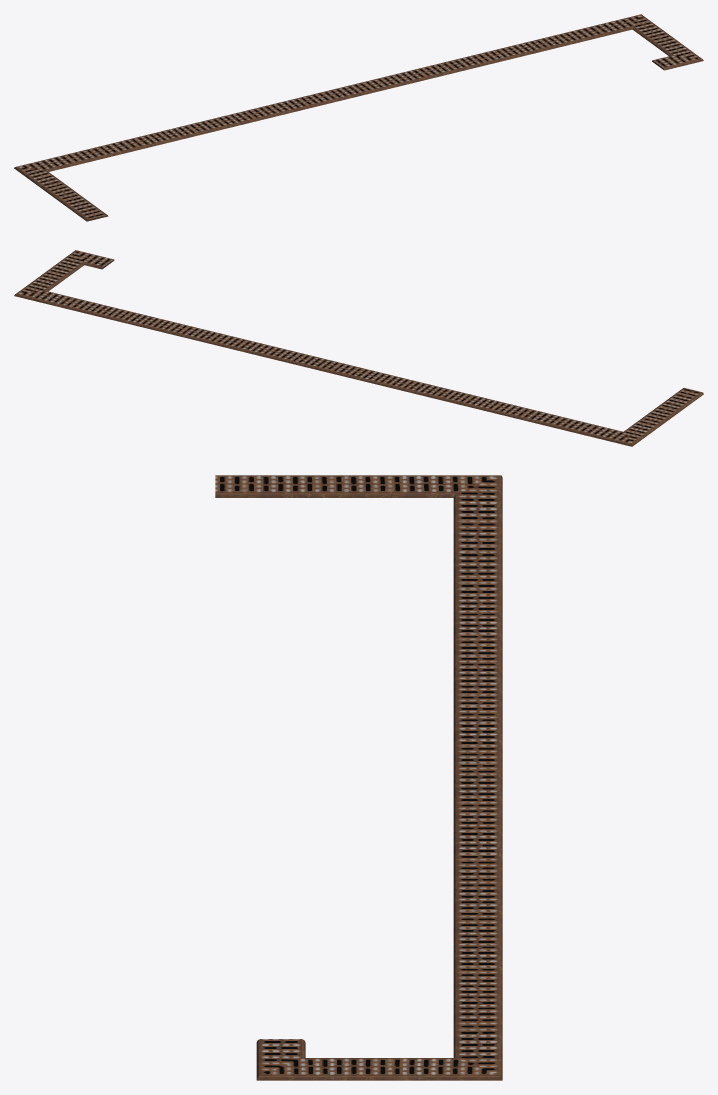
Rendered from Drainage.glb.
The picture shows the model from 3 angles, top to bottom: view 1: azimuth 30°, elevation 25°; view 2: azimuth 150°, elevation 25°; view 3: azimuth 270°, elevation 25°; orthographic projection. The views are drawn at different scales.
Parts seen in each view (by area): view 1: Drainage_4m, Drainage_Corner_2m, Drainage_2m, Drainage_Corner_1m, Drainage_Corner_0_5m, Drainage_1m, Drainage_0_5m; view 2: Drainage_4m, Drainage_Corner_2m, Drainage_2m, Drainage_Corner_1m, Drainage_1m, Drainage_Corner_0_5m, Drainage_0_5m; view 3: Drainage_Corner_2m, Drainage_4m, Drainage_Corner_1m, Drainage_2m, Drainage_Corner_0_5m, Drainage_1m, Drainage_0_5m.
Boxes of the visible parts, left/top/right/bottom form: Drainage_4m: left=257, top=52, right=498, bottom=118; Drainage_Corner_2m: left=14, top=136, right=152, bottom=221; Drainage_2m: left=141, top=108, right=267, bottom=146; Drainage_Corner_1m: left=574, top=14, right=679, bottom=48; Drainage_Corner_0_5m: left=652, top=42, right=703, bottom=70; Drainage_1m: left=487, top=38, right=556, bottom=61; Drainage_0_5m: left=545, top=31, right=585, bottom=47; Drainage_4m: left=167, top=323, right=404, bottom=388; Drainage_Corner_2m: left=508, top=388, right=703, bottom=446; Drainage_2m: left=394, top=378, right=519, bottom=416; Drainage_Corner_1m: left=14, top=266, right=92, bottom=312; Drainage_1m: left=110, top=309, right=177, bottom=333; Drainage_Corner_0_5m: left=54, top=250, right=114, bottom=272; Drainage_0_5m: left=81, top=302, right=120, bottom=319; Drainage_Corner_2m: left=215, top=475, right=502, bottom=598; Drainage_4m: left=453, top=706, right=502, bottom=931; Drainage_Corner_1m: left=346, top=1011, right=502, bottom=1080; Drainage_2m: left=453, top=595, right=502, bottom=709; Drainage_Corner_0_5m: left=256, top=1039, right=346, bottom=1080; Drainage_1m: left=453, top=928, right=502, bottom=986; Drainage_0_5m: left=453, top=983, right=502, bottom=1014.
Size of the model in its own units: 10.87 by 0.0307 by 2.19.
1 material, 1 textured.
